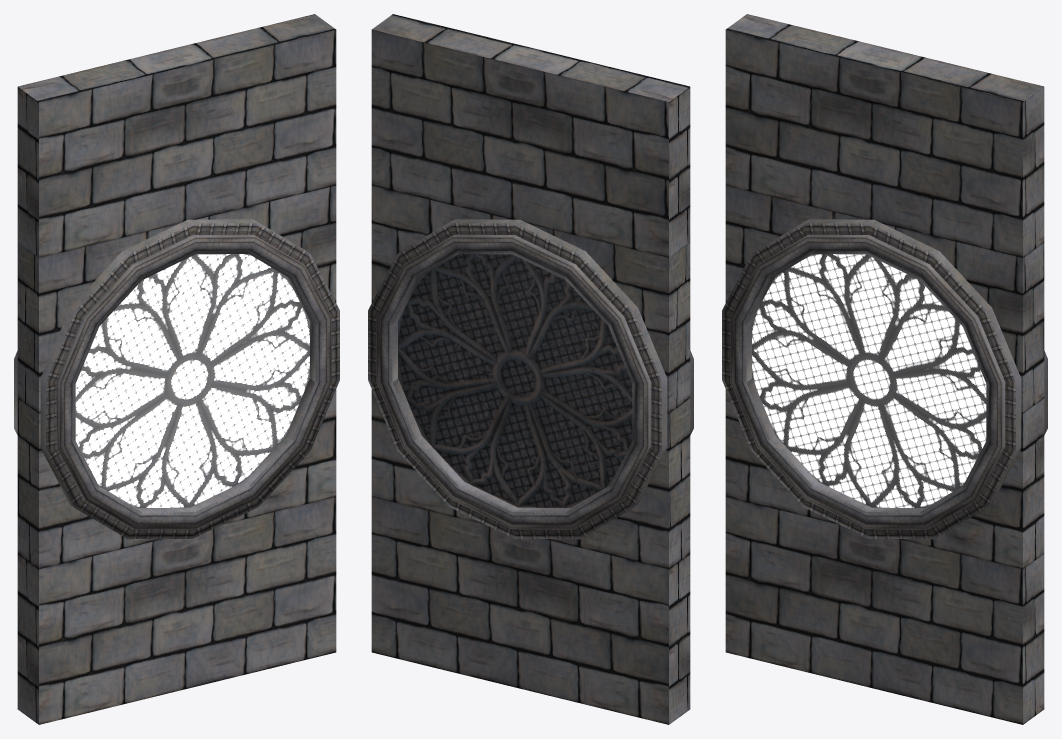
File: wall_rose_window_01.fbx
The picture shows the model from 3 angles, left to right: view 1: azimuth 30°, elevation 25°; view 2: azimuth 150°, elevation 25°; view 3: azimuth 330°, elevation 25°; orthographic projection.
Visible parts, largest first — view 1: wall_rose_window_01; view 2: wall_rose_window_01; view 3: wall_rose_window_01.
Part boxes in pixels (x1,y1,x2,y2): wall_rose_window_01: [14, 14, 339, 724]; wall_rose_window_01: [368, 14, 693, 724]; wall_rose_window_01: [722, 14, 1047, 724].
Size of the model in its own units: 800 by 1600 by 174.
